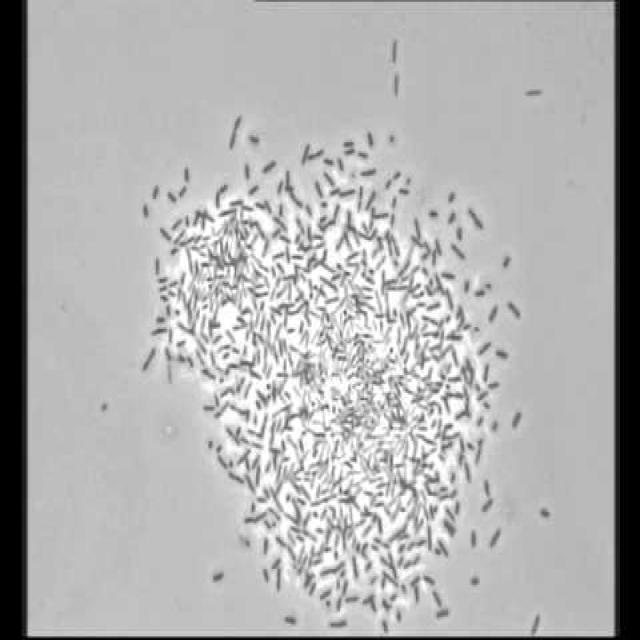Rod_bacteria: (140, 113, 523, 634)
